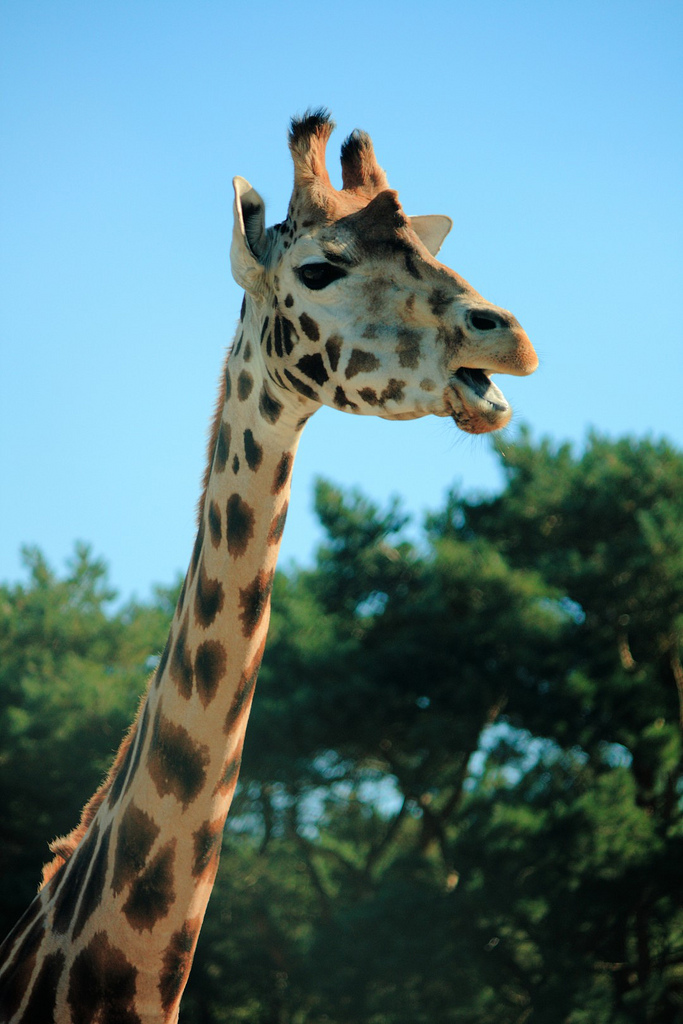giraffe: (95, 112, 542, 963)
